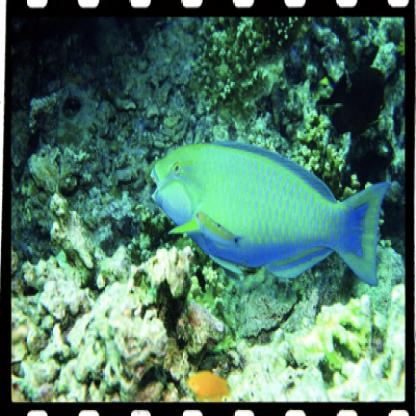Scaridae -Parrotfishes-: (148, 124, 393, 291)
